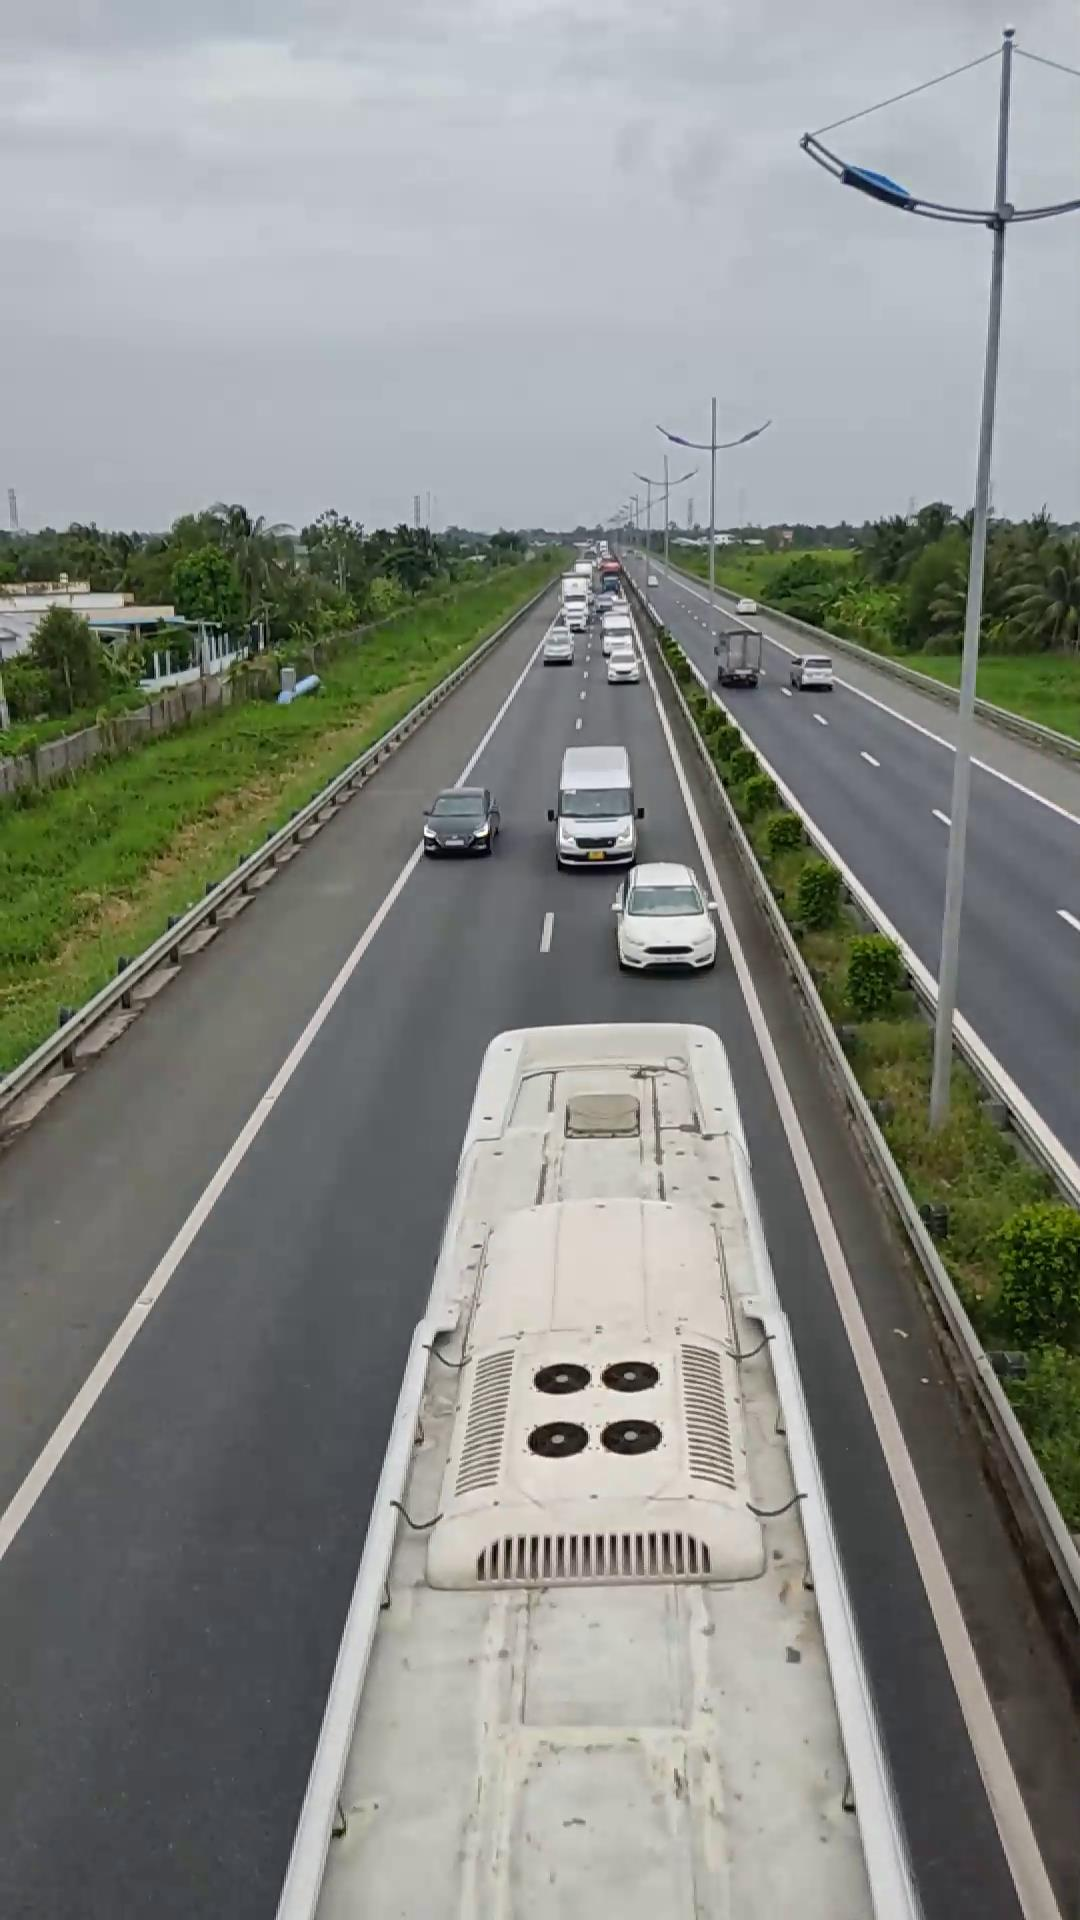bus: (274, 1014, 924, 1917)
car: (611, 860, 719, 973), (547, 744, 644, 869), (418, 785, 500, 855)
